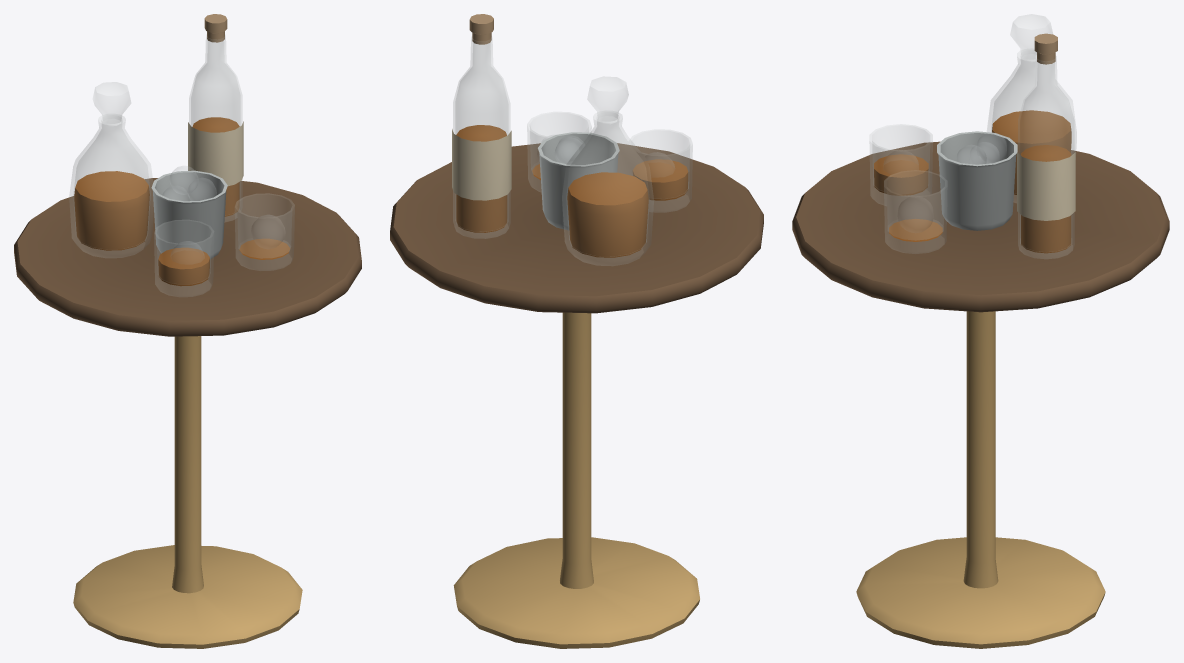
Rendered from whiskey-side-table-lod1.glb.
The picture shows the model from 3 angles, left to right: view 1: azimuth 30°, elevation 25°; view 2: azimuth 150°, elevation 25°; view 3: azimuth 270°, elevation 25°; orthographic projection. The views are drawn at different scales.
Visible parts, largest first — view 1: whiskey-side-table.lod1__dining smoked oak, whiskey-side-table.lod1__furniture brushed brass, whiskey-side-table.lod1__whiskey crystal, whiskey-side-table.lod1__whiskey amber, whiskey-side-table.lod1__furniture polished nickel, whiskey-side-table.lod1__whiskey label cream, whiskey-side-table.lod1__whiskey ice, whiskey-side-table.lod1__whiskey cork; view 2: whiskey-side-table.lod1__dining smoked oak, whiskey-side-table.lod1__furniture brushed brass, whiskey-side-table.lod1__whiskey crystal, whiskey-side-table.lod1__whiskey amber, whiskey-side-table.lod1__furniture polished nickel, whiskey-side-table.lod1__whiskey label cream, whiskey-side-table.lod1__whiskey ice, whiskey-side-table.lod1__whiskey cork; view 3: whiskey-side-table.lod1__dining smoked oak, whiskey-side-table.lod1__furniture brushed brass, whiskey-side-table.lod1__whiskey crystal, whiskey-side-table.lod1__whiskey amber, whiskey-side-table.lod1__furniture polished nickel, whiskey-side-table.lod1__whiskey label cream, whiskey-side-table.lod1__whiskey ice, whiskey-side-table.lod1__whiskey cork.
Part boxes in pixels (x1,y1,x2,y2): whiskey-side-table.lod1__dining smoked oak: [14, 178, 361, 336]; whiskey-side-table.lod1__furniture brushed brass: [73, 336, 302, 648]; whiskey-side-table.lod1__whiskey crystal: [69, 35, 294, 296]; whiskey-side-table.lod1__whiskey amber: [74, 117, 289, 286]; whiskey-side-table.lod1__furniture polished nickel: [151, 170, 227, 259]; whiskey-side-table.lod1__whiskey label cream: [188, 121, 243, 186]; whiskey-side-table.lod1__whiskey ice: [163, 166, 284, 255]; whiskey-side-table.lod1__whiskey cork: [204, 14, 227, 42]; whiskey-side-table.lod1__dining smoked oak: [390, 143, 763, 313]; whiskey-side-table.lod1__furniture brushed brass: [453, 312, 699, 648]; whiskey-side-table.lod1__whiskey crystal: [453, 37, 692, 265]; whiskey-side-table.lod1__whiskey amber: [456, 125, 688, 257]; whiskey-side-table.lod1__furniture polished nickel: [538, 132, 619, 230]; whiskey-side-table.lod1__whiskey label cream: [452, 129, 511, 200]; whiskey-side-table.lod1__whiskey ice: [537, 135, 674, 167]; whiskey-side-table.lod1__whiskey cork: [469, 14, 493, 44]; whiskey-side-table.lod1__dining smoked oak: [792, 141, 1169, 312]; whiskey-side-table.lod1__furniture brushed brass: [856, 311, 1105, 648]; whiskey-side-table.lod1__whiskey crystal: [869, 14, 1076, 258]; whiskey-side-table.lod1__whiskey amber: [874, 110, 1071, 253]; whiskey-side-table.lod1__furniture polished nickel: [937, 131, 1017, 230]; whiskey-side-table.lod1__whiskey label cream: [1017, 152, 1075, 220]; whiskey-side-table.lod1__whiskey ice: [884, 132, 1006, 232]; whiskey-side-table.lod1__whiskey cork: [1034, 33, 1057, 64].
Bounding box in the file's own units: 0.52 × 0.896 × 0.52.
